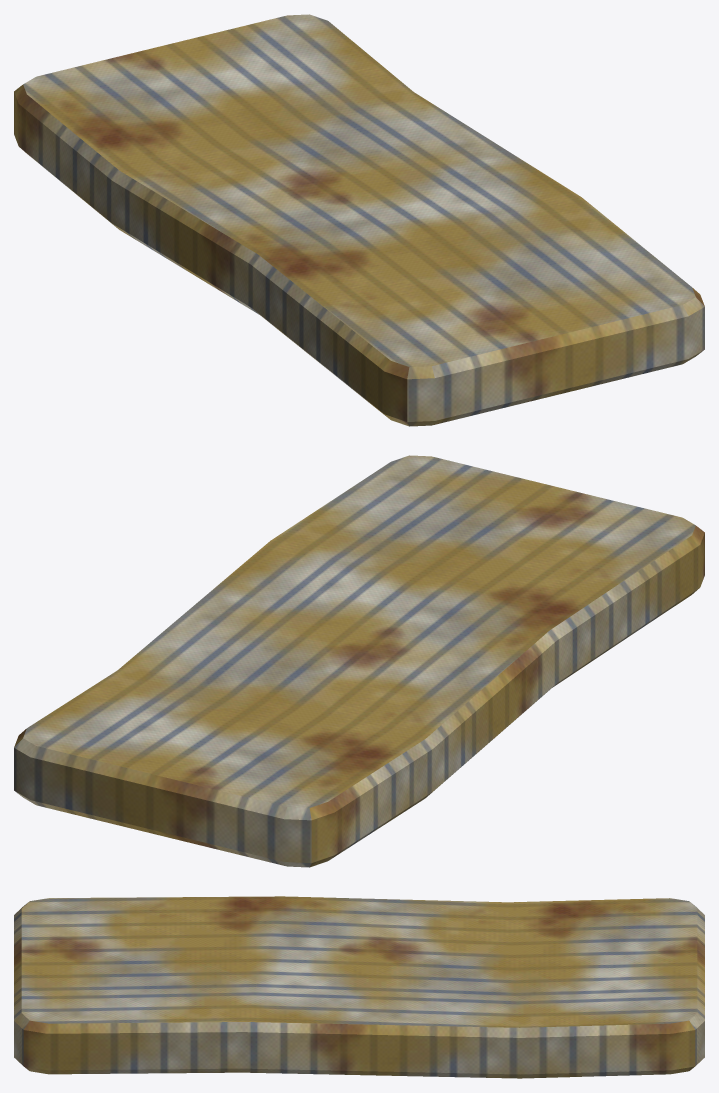
The model's file is MattressTwin.fbx.
3 views of the same model, one above another, from view 1: azimuth 30°, elevation 25°; view 2: azimuth 150°, elevation 25°; view 3: azimuth 270°, elevation 25° (orthographic). The views are drawn at different scales.
Visible parts, largest first — view 1: MattressTwin.001; view 2: MattressTwin.001; view 3: MattressTwin.001.
Part boxes in pixels (bbox=[...]): MattressTwin.001: bbox=[14, 14, 704, 426]; MattressTwin.001: bbox=[14, 455, 704, 867]; MattressTwin.001: bbox=[14, 896, 704, 1078].
Size of the model in its own units: 0.9982 by 0.2062 by 2.16.
Materials: 1 (1 with a texture image).
